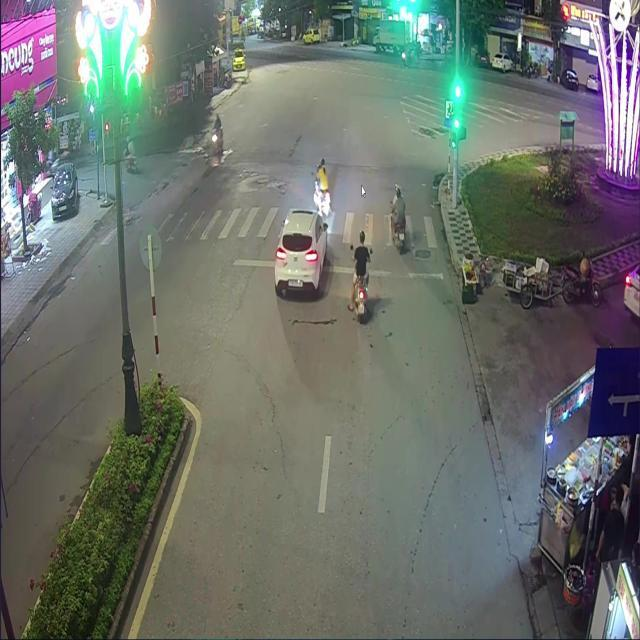car: (273, 208, 326, 293)
green_light: (452, 99, 459, 128)
motobike: (353, 284, 367, 321), (392, 230, 405, 252)
stop_line: (231, 258, 442, 280)
